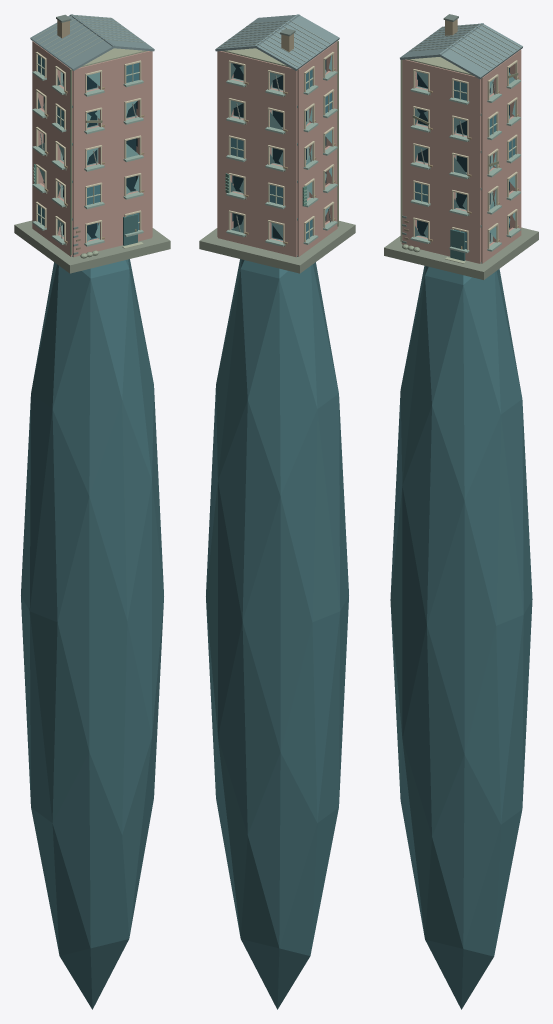
File: house_05.glb
3 views of the same model, side by side, from view 1: azimuth 30°, elevation 25°; view 2: azimuth 150°, elevation 25°; view 3: azimuth 330°, elevation 25° (orthographic).
Parts seen in each view (by area): view 1: house_05; view 2: house_05; view 3: house_05.
Boxes of the visible parts, x1,y1,x2,y2 form: house_05: (14,14,170,1009); house_05: (199,14,355,1009); house_05: (384,14,538,1009).
Size of the model in its own units: 11.2 by 84.51 by 10.8.
